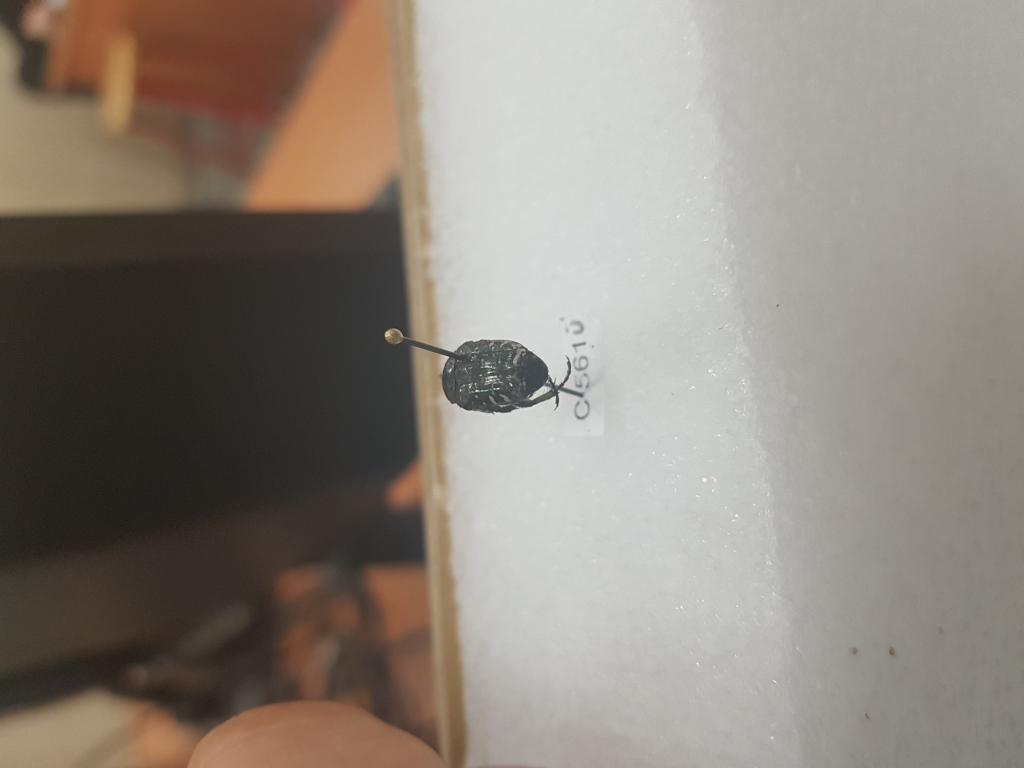Oxythyrea_albopicta: (436, 328, 578, 428)
